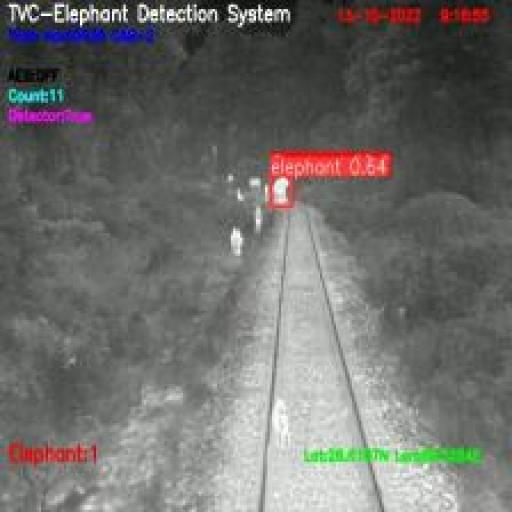Elephant: (272, 176, 293, 207)
